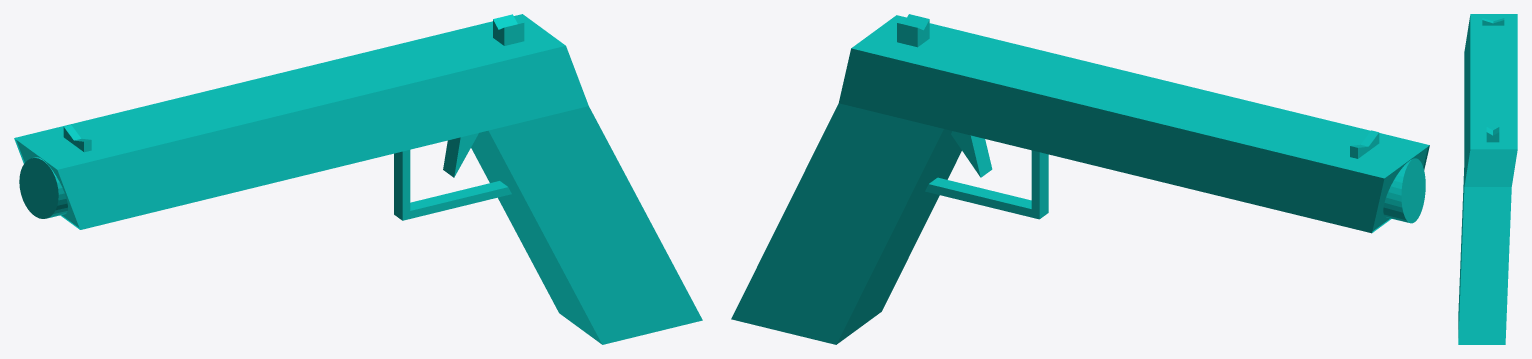
The model's file is Gun2.fbx.
The picture shows the model from 3 angles, left to right: view 1: azimuth 30°, elevation 25°; view 2: azimuth 150°, elevation 25°; view 3: azimuth 270°, elevation 25°; orthographic projection. The views are drawn at different scales.
Parts seen in each view (by area): view 1: Cube; view 2: Cube; view 3: Cube.
Boxes of the visible parts, x1,y1,x2,y2 form: Cube: (14, 14, 702, 344); Cube: (731, 14, 1429, 344); Cube: (1458, 14, 1517, 344).
Size of the model in its own units: 1276 by 601 by 188.
